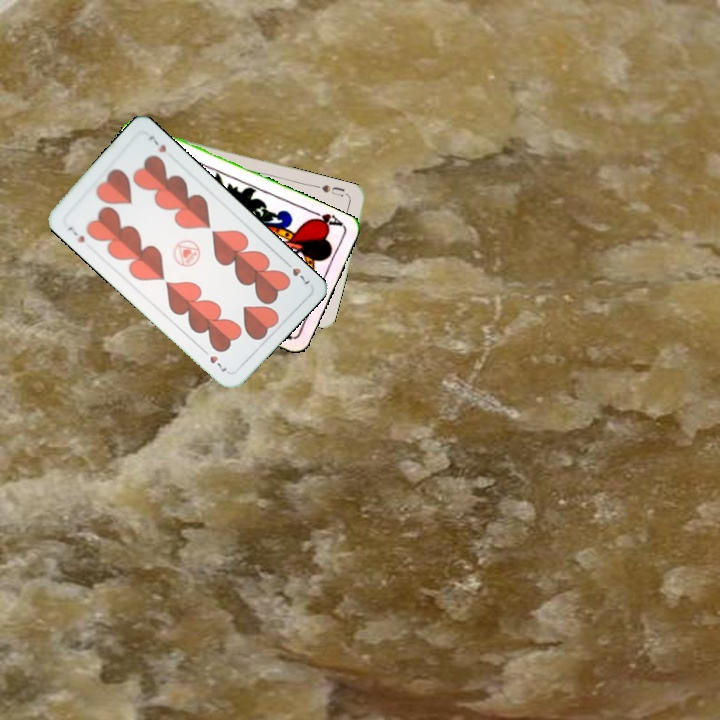H7: (280, 256, 313, 288), (64, 222, 87, 245)
HA: (305, 207, 346, 231)
SU: (312, 180, 347, 199)
